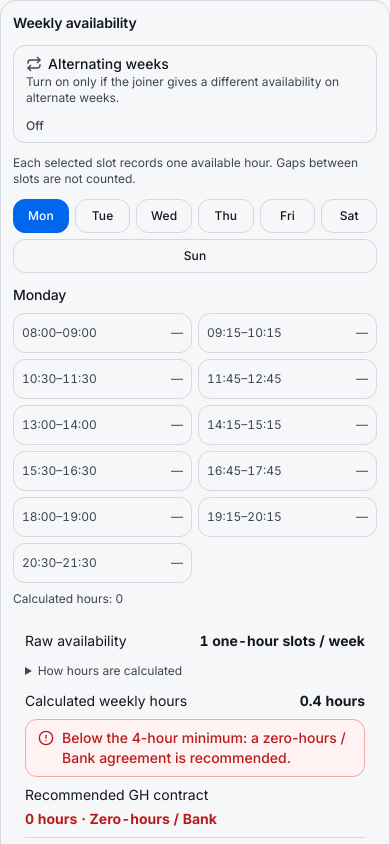
Scenario: joiner availability controls › allows read-only day navigation without offering slot mutations
This screenshot has width=390, height=844.
Click the button with aria-label "Show Sunday" at (195, 256), box 13,239 -> 377,273
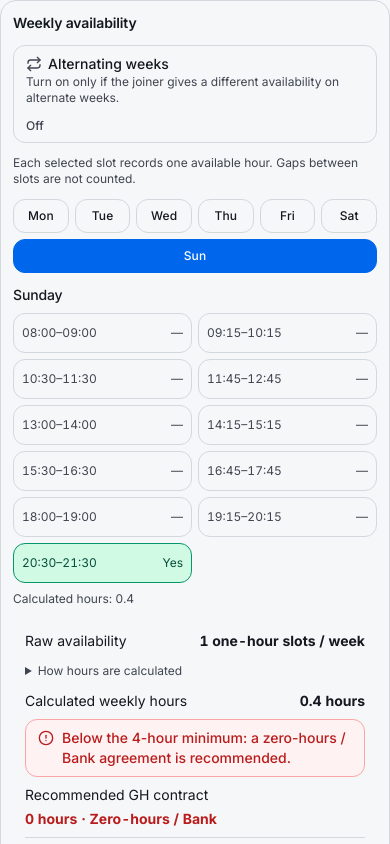
Check: the element named "Sunday 20:30–21:30: Available" is shown, box 13,543 -> 192,583
